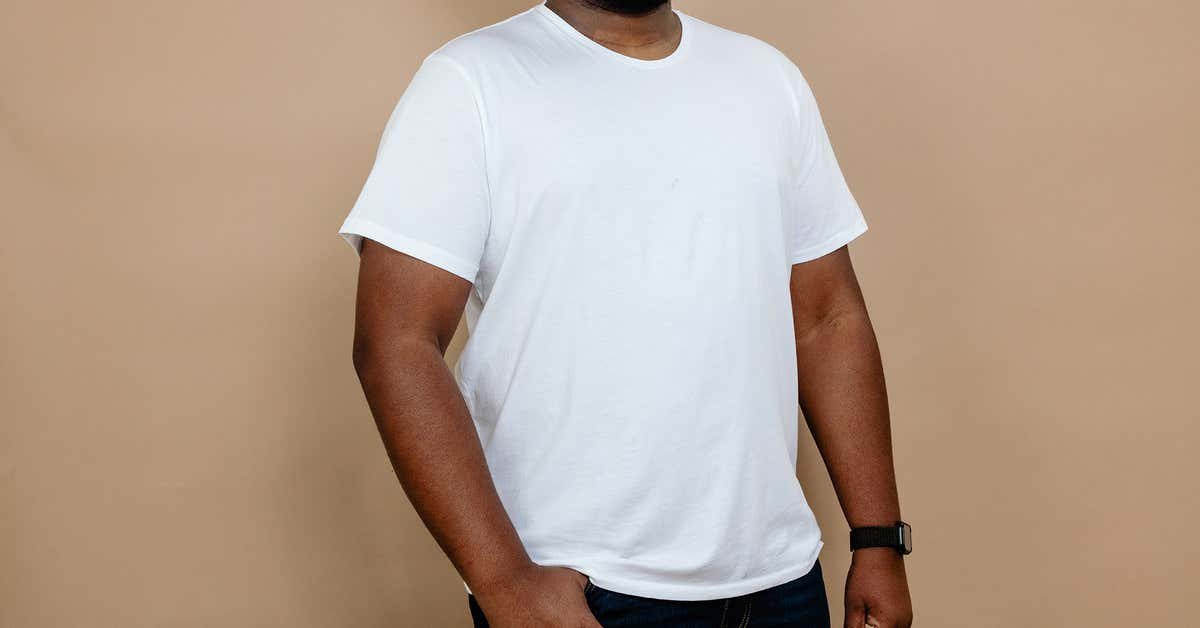round-necked tshirt: (354, 6, 861, 601)
